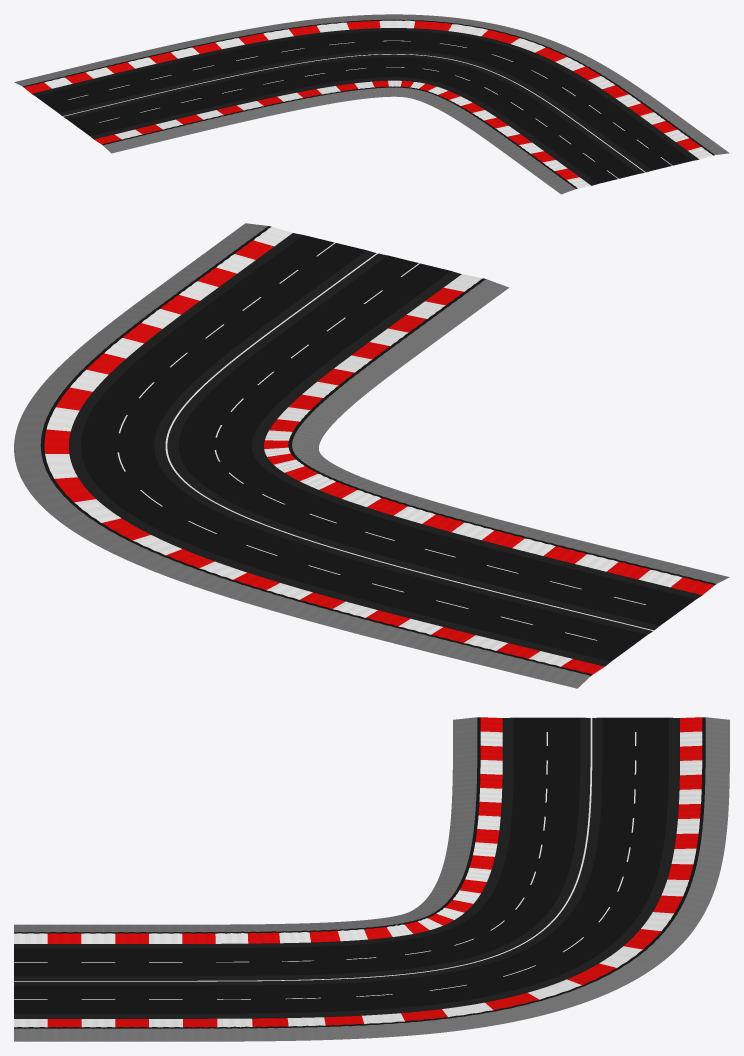
The model's file is S0.3r2-corner.glb.
3 views of the same model, one above another, from view 1: azimuth 30°, elevation 25°; view 2: azimuth 150°, elevation 25°; view 3: azimuth 270°, elevation 25° (orthographic). The views are drawn at different scales.
Visible parts, largest first — view 1: Grid; view 2: Grid; view 3: Grid.
Part boxes in pixels (box(x1,y1,x2,y2)): Grid: box(14, 14, 729, 194); Grid: box(14, 223, 729, 688); Grid: box(14, 717, 729, 1041).
Size of the model in its own units: 68.73 by 0.31 by 64.6.
